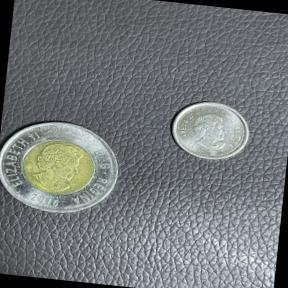coin: (0, 112, 131, 223), (162, 96, 258, 170)
